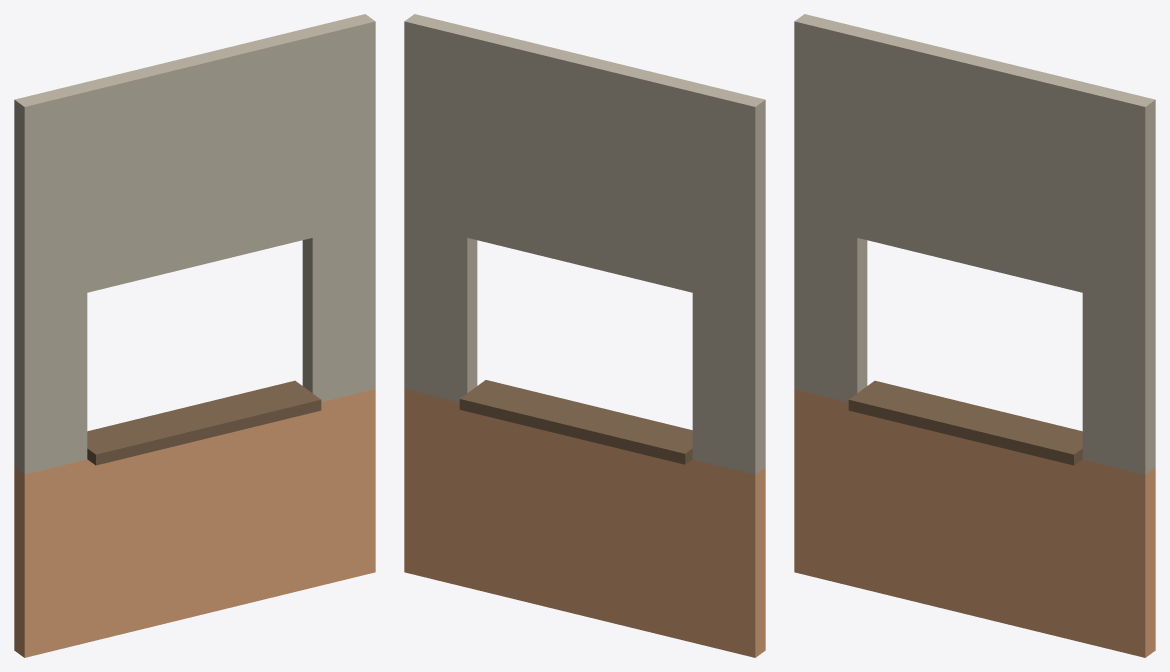
File: Mesh_Wall2Colors_C3.fbx
3 views of the same model, side by side, from view 1: azimuth 30°, elevation 25°; view 2: azimuth 150°, elevation 25°; view 3: azimuth 330°, elevation 25° (orthographic).
Parts seen in each view (by area): view 1: Mesh_Wall2Colors_C3; view 2: Mesh_Wall2Colors_C3; view 3: Mesh_Wall2Colors_C3.
Part boxes in pixels (<box>): Mesh_Wall2Colors_C3: <box>14,14,375,657</box>; Mesh_Wall2Colors_C3: <box>404,14,765,657</box>; Mesh_Wall2Colors_C3: <box>794,14,1155,657</box>.
Size of the model in its own units: 2 by 3 by 0.2574.
